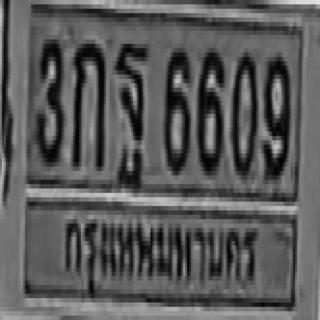A01: (71, 40, 107, 173)
A16: (114, 40, 146, 188)
N00: (230, 48, 256, 171)
N03: (35, 35, 62, 162)
N06: (196, 44, 224, 171), (162, 44, 189, 171)
N09: (262, 53, 289, 175)
P04: (56, 203, 263, 302)
